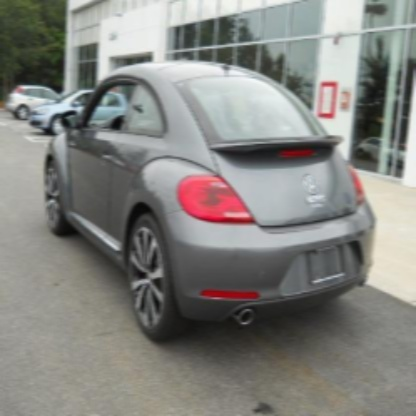Vehicle: (46, 57, 376, 344)
